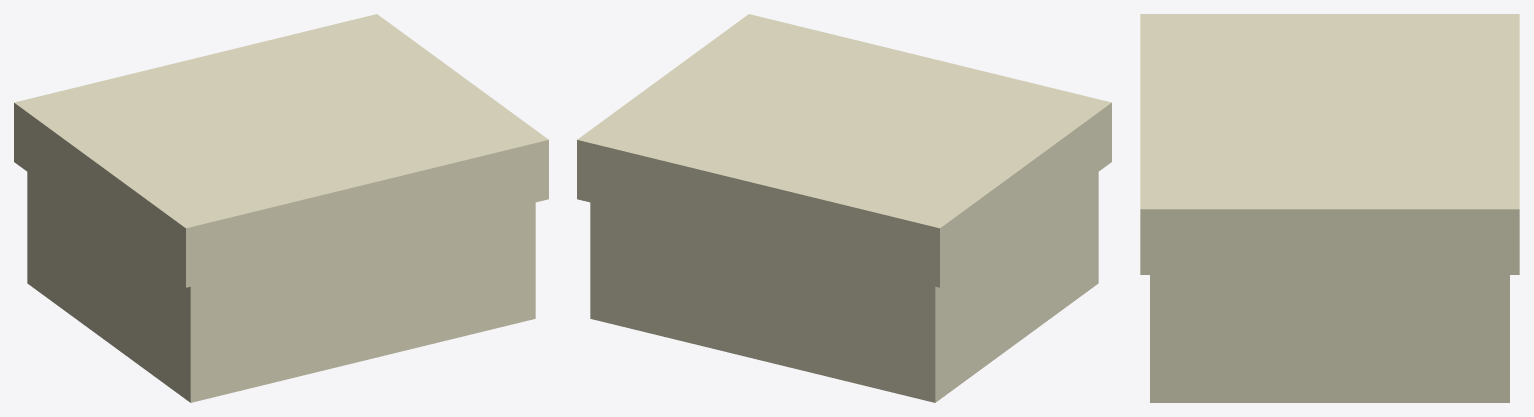
The model's file is t shirts.fbx.
3 renders of one model, left to right at view 1: azimuth 30°, elevation 25°; view 2: azimuth 150°, elevation 25°; view 3: azimuth 270°, elevation 25°, orthographic. The views are drawn at different scales.
Parts seen in each view (by area): view 1: t shirts; view 2: t shirts; view 3: t shirts.
Part boxes in pixels (<box>): t shirts: <box>14,14,548,402</box>; t shirts: <box>577,14,1111,402</box>; t shirts: <box>1140,14,1519,402</box>.
Bounding box in the file's own units: 210 × 99.7 × 173.
